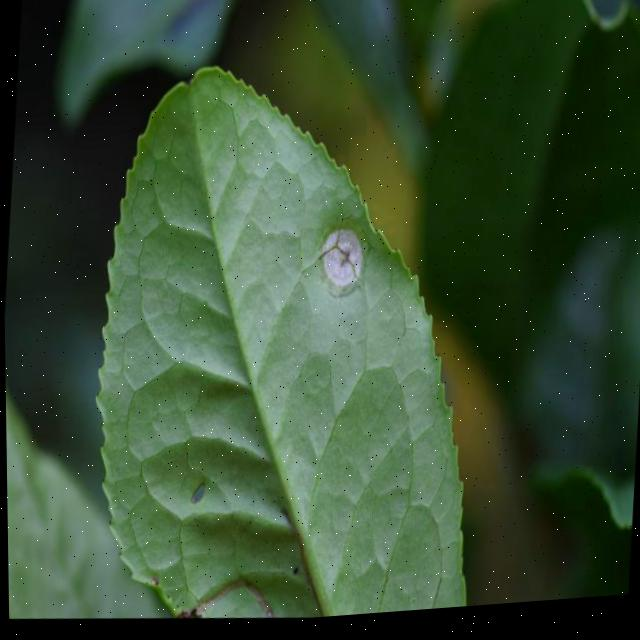Tea cake: (308, 218, 374, 305)
